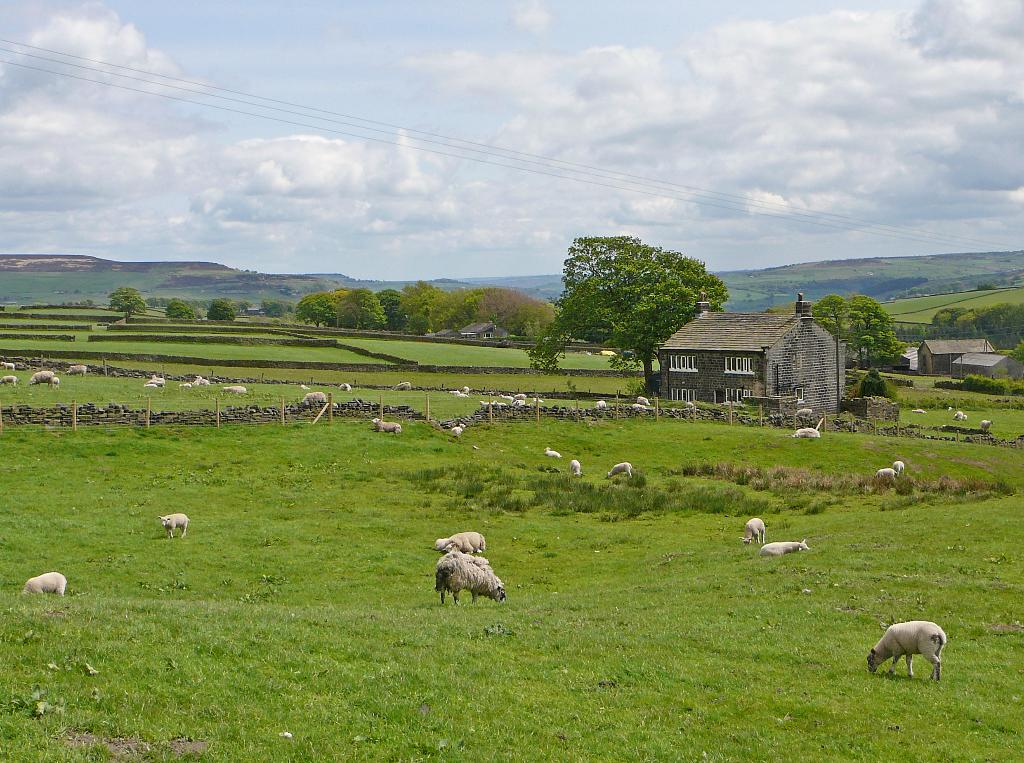sheep: (868, 613, 956, 690), (435, 552, 503, 606), (757, 538, 805, 558), (740, 515, 768, 546), (20, 574, 62, 594), (160, 516, 190, 536), (374, 417, 400, 433), (30, 370, 53, 384), (608, 464, 630, 477), (874, 470, 894, 478), (304, 393, 321, 402), (890, 461, 903, 472), (545, 447, 559, 457), (571, 460, 580, 473), (145, 380, 163, 384), (67, 368, 87, 371), (53, 377, 61, 384), (453, 425, 460, 432)
